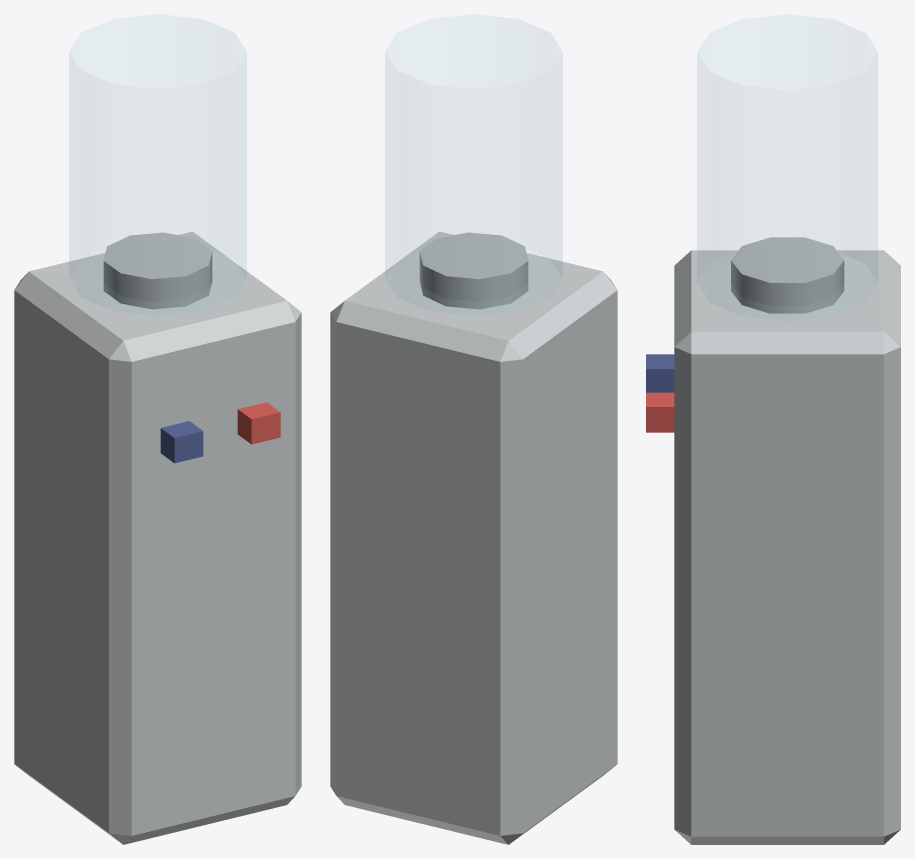
File: an_cooler.glb
The picture shows the model from 3 angles, left to right: view 1: azimuth 30°, elevation 25°; view 2: azimuth 150°, elevation 25°; view 3: azimuth 270°, elevation 25°; orthographic projection.
Parts seen in each view (by area): view 1: an_cooler; view 2: an_cooler; view 3: an_cooler.
Part boxes in pixels (left/top/right/bottom): an_cooler: left=14, top=14, right=301, bottom=844; an_cooler: left=330, top=14, right=617, bottom=844; an_cooler: left=646, top=14, right=900, bottom=844.
Size of the model in its own units: 0.4 by 1.47 by 0.45.
